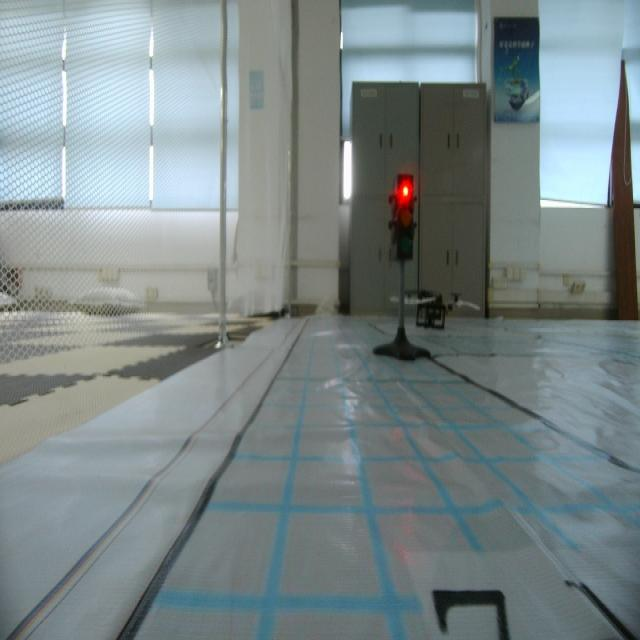red: (389, 172, 419, 268)
